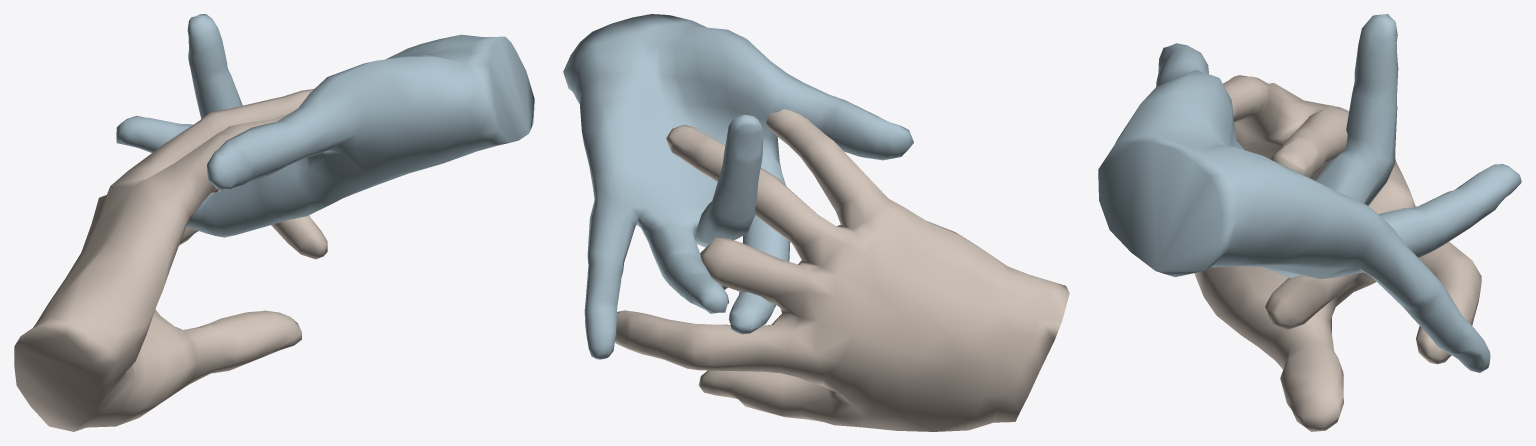
The model's file is pred_3.glb.
3 renders of one model, left to right at view 1: azimuth 30°, elevation 25°; view 2: azimuth 150°, elevation 25°; view 3: azimuth 270°, elevation 25°, orthographic. The views are drawn at different scales.
Bounding box in the file's own units: 0.238 × 0.1465 × 0.145.
